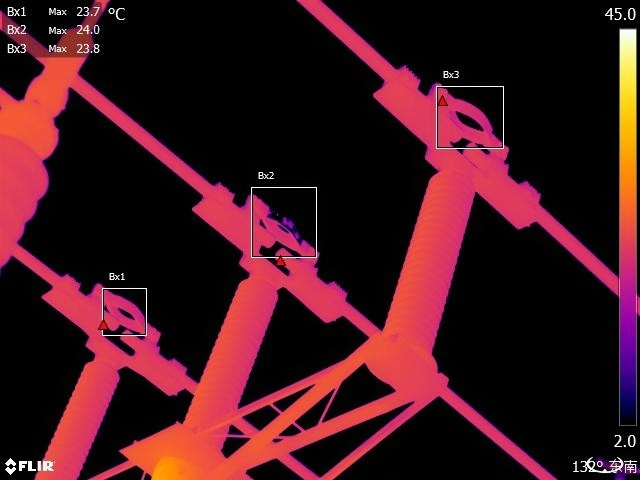post insulator: (379, 175, 487, 352), (180, 282, 283, 437), (15, 362, 132, 480)
